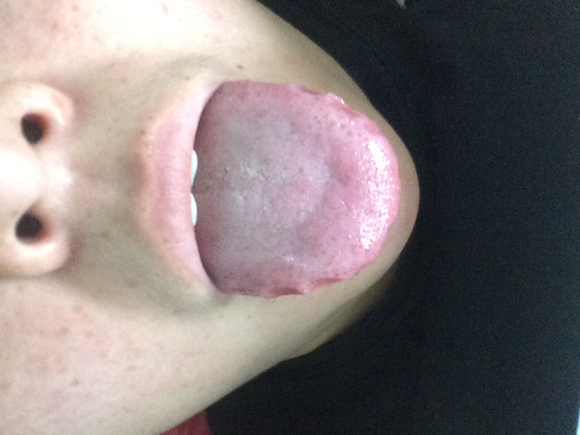baitaishe: (193, 80, 402, 299)
chihenshe: (292, 83, 383, 138), (261, 274, 347, 301)
